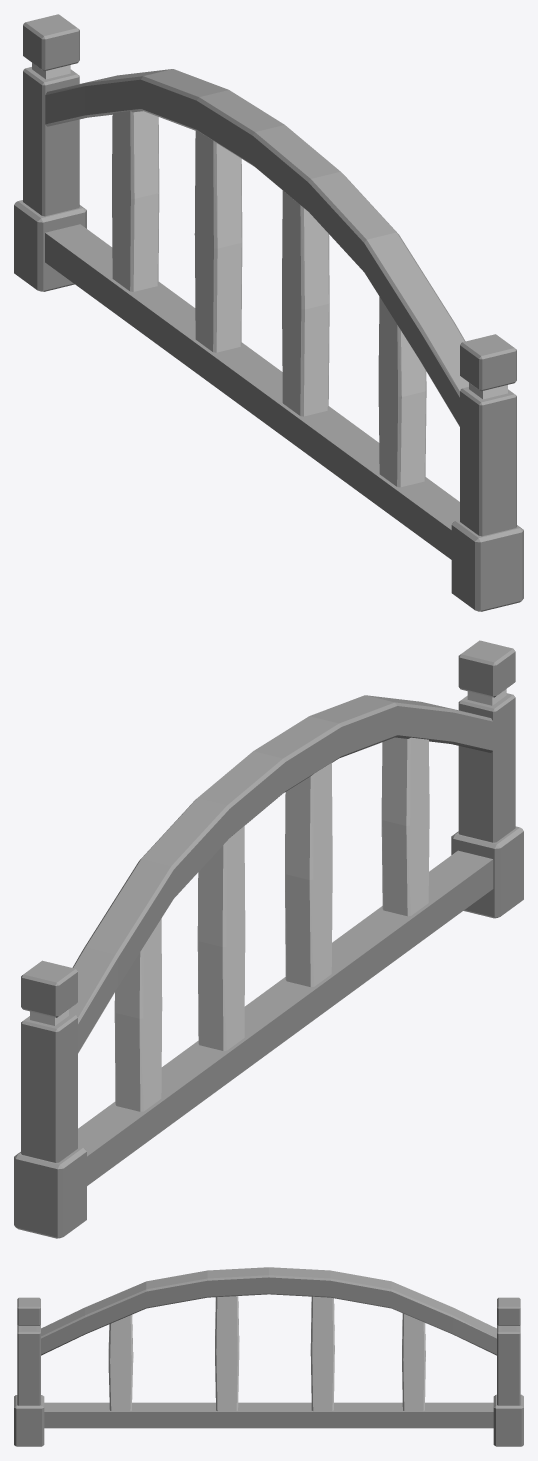
Rendered from road_bridge_L.FBX.
3 renders of one model, top to bottom at view 1: azimuth 30°, elevation 25°; view 2: azimuth 150°, elevation 25°; view 3: azimuth 270°, elevation 25°, orthographic. The views are drawn at different scales.
Parts seen in each view (by area): view 1: road_bridge_L; view 2: road_bridge_L; view 3: road_bridge_L.
Part boxes in pixels (x1,y1,x2,y2): road_bridge_L: (14, 14, 523, 611); road_bridge_L: (14, 640, 523, 1238); road_bridge_L: (14, 1267, 523, 1446).
Bounding box in the file's own units: 1.84 × 11.01 × 29.95.
Materials: 1 (1 with a texture image).
